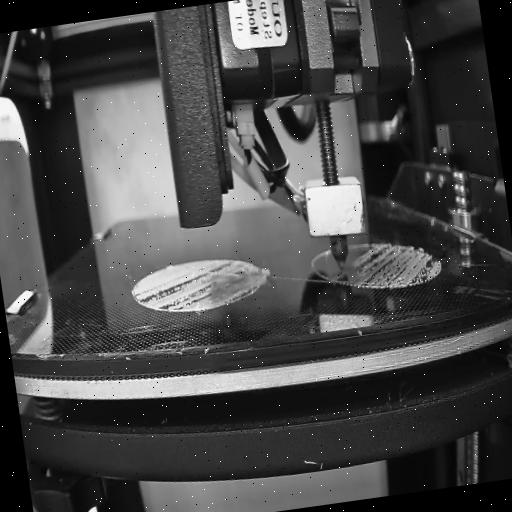under_extrusion: (134, 260, 260, 314), (346, 236, 440, 296)
